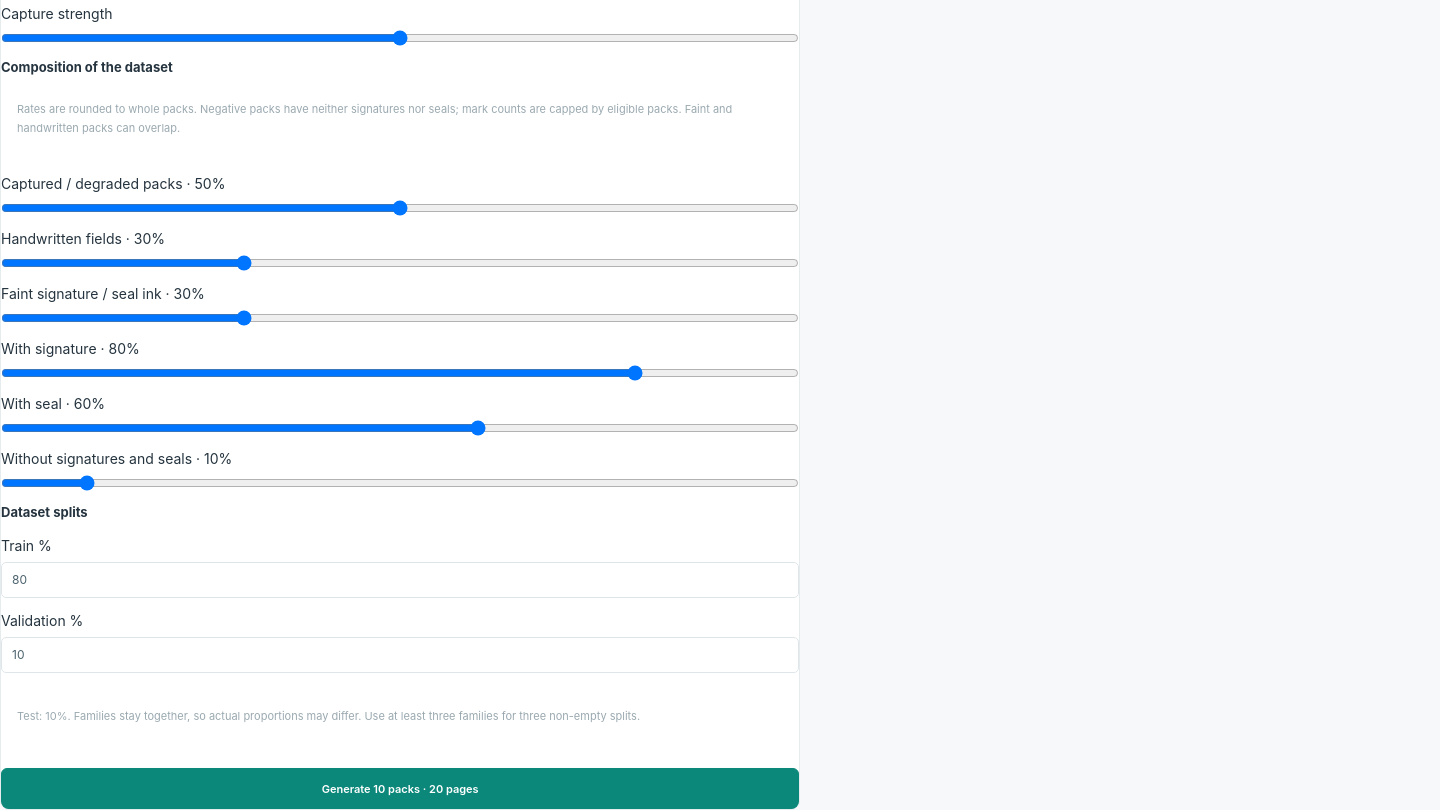
Test case: prevents invalid split proportions and oversized runs
(page scrolled)
Step 1. Replace the text in the number field labelled "Train %" with "95" → (400, 580), box [1,562,799,598]
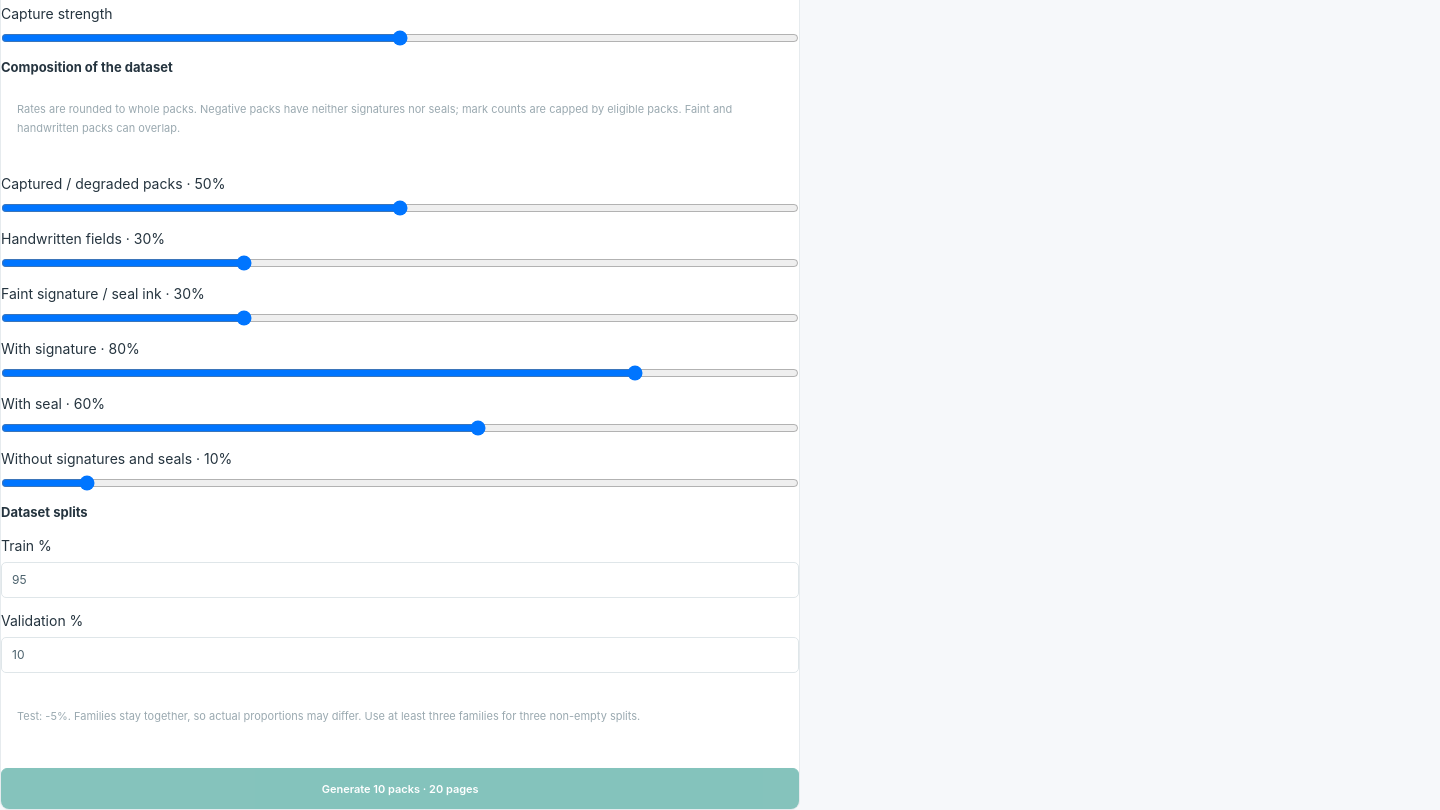
Now the button "Generate 10 packs · 20 pages" is disabled, box [1,768,799,809]
Step 2. Replace the text in the number field labelled "Train %" with "80" → (400, 580), box [1,562,799,598]
(page scrolled)
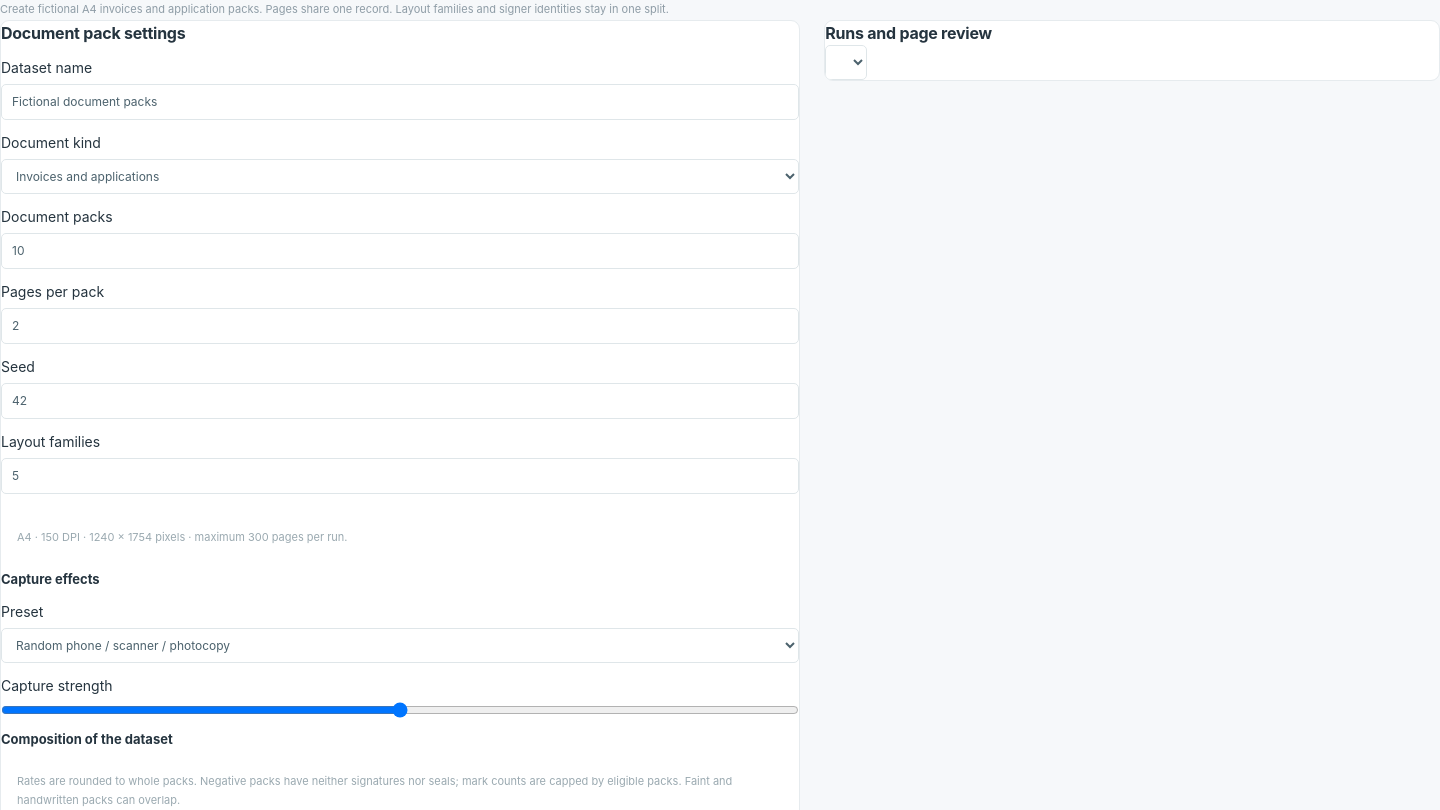
Step 3. Replace the text in the number field labelled "Document packs" with "100" → (400, 251), box [1,233,799,269]
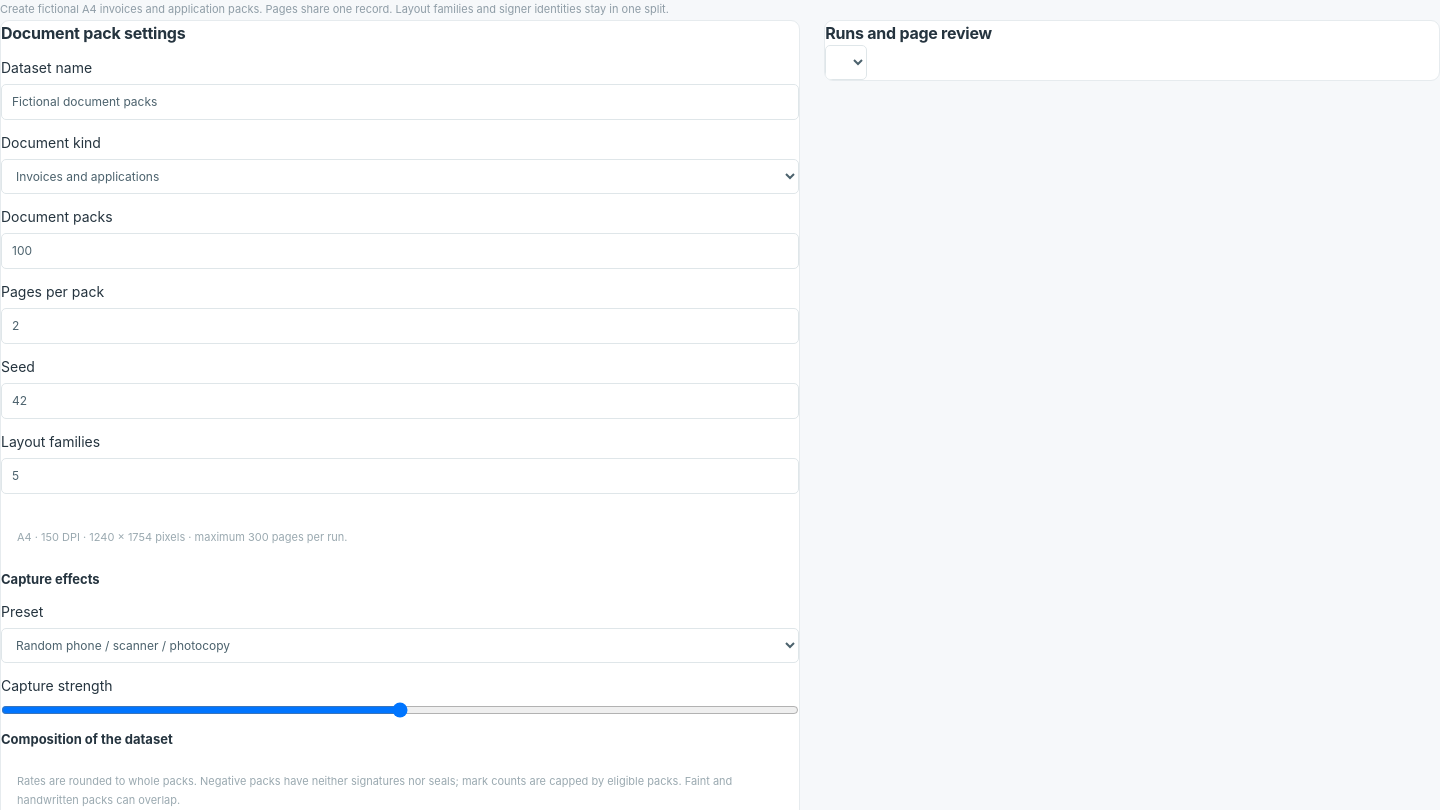
Step 4. Replace the text in the number field labelled "Pages per pack" with "5" → (400, 326), box [1,308,799,344]
(page scrolled)
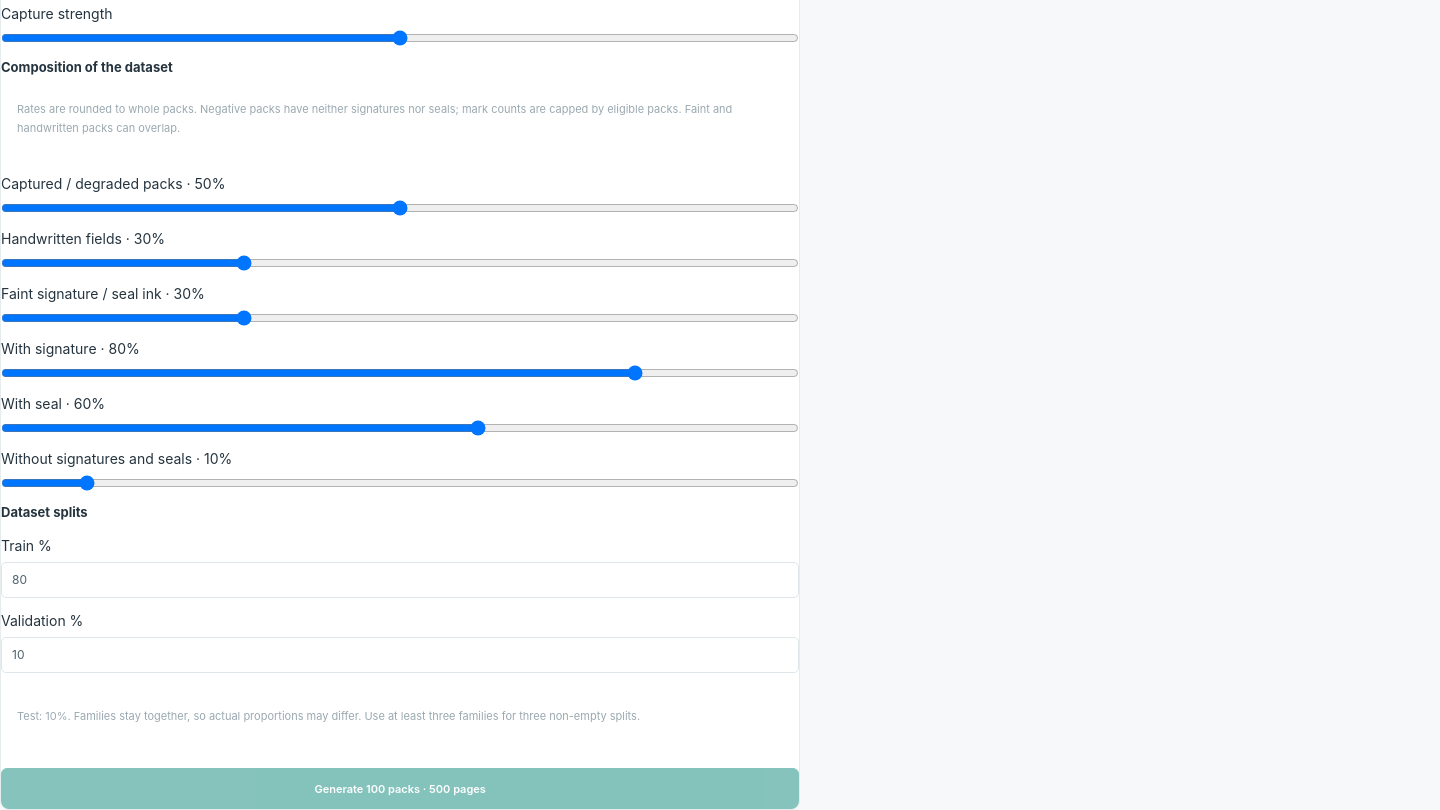
Now the button "Generate 100 packs · 500 pages" is disabled, box [1,768,799,809]
